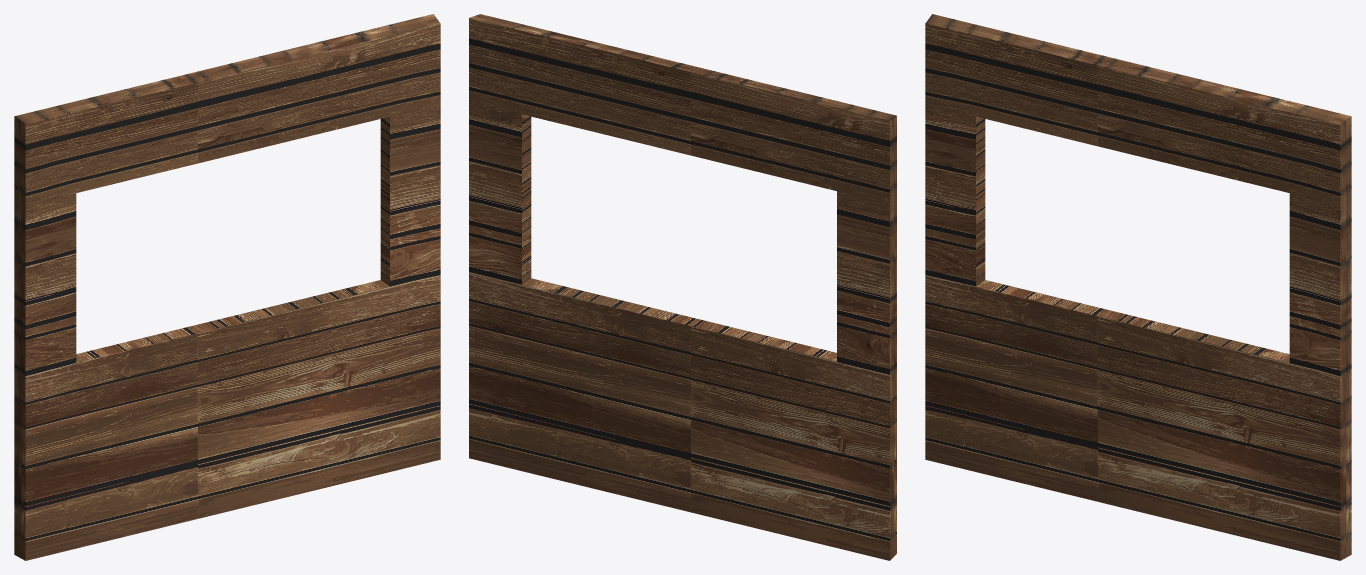
Rendered from window.glb.
The picture shows the model from 3 angles, left to right: view 1: azimuth 30°, elevation 25°; view 2: azimuth 150°, elevation 25°; view 3: azimuth 330°, elevation 25°; orthographic projection.
Parts seen in each view (by area): view 1: Window; view 2: Window; view 3: Window.
Boxes of the visible parts, box(x1,y1,x2,y2) form: Window: box(14, 14, 440, 560); Window: box(469, 14, 896, 560); Window: box(925, 14, 1351, 560).
Size of the model in its own units: 2 by 2 by 0.0751.
1 material, 1 textured.
